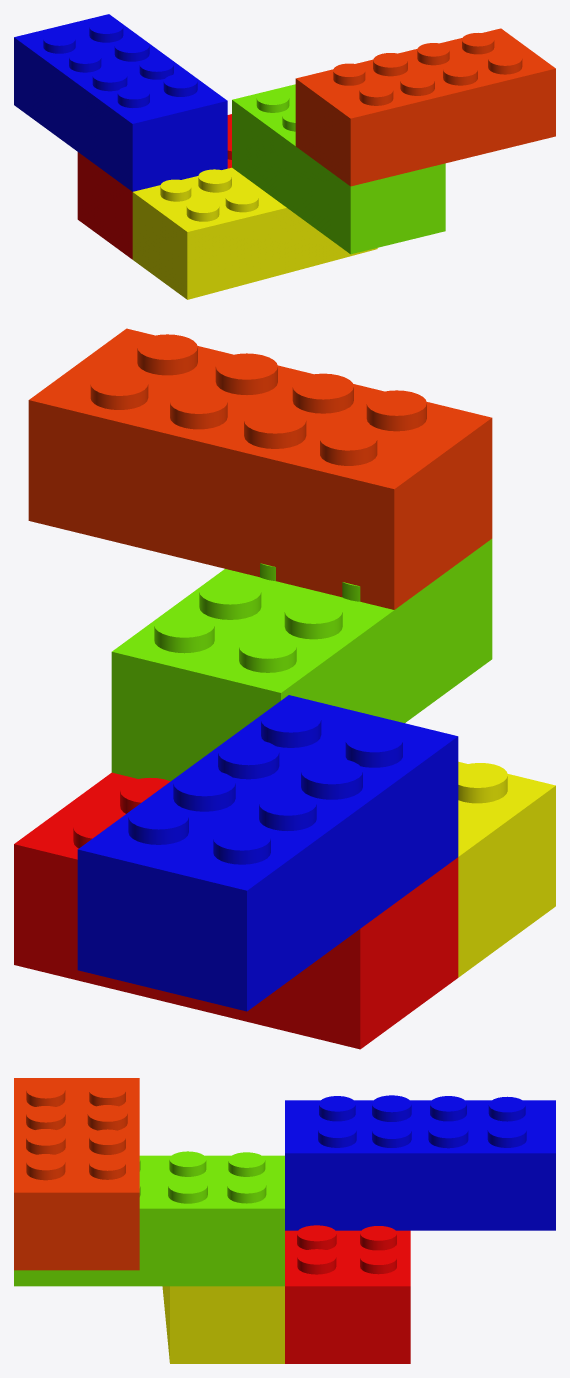
File: block5.obj
The picture shows the model from 3 angles, top to bottom: view 1: azimuth 30°, elevation 25°; view 2: azimuth 150°, elevation 25°; view 3: azimuth 270°, elevation 25°; orthographic projection. The views are drawn at different scales.
Parts seen in each view (by area): view 1: Mesh1 Model; view 2: Mesh1 Model; view 3: Mesh1 Model.
Boxes of the visible parts, bbox=[...] form: Mesh1 Model: bbox=[14, 14, 555, 299]; Mesh1 Model: bbox=[14, 328, 555, 1049]; Mesh1 Model: bbox=[14, 1078, 555, 1363].
Bounding box in the file's own units: 4.23 × 2.82 × 5.7.
